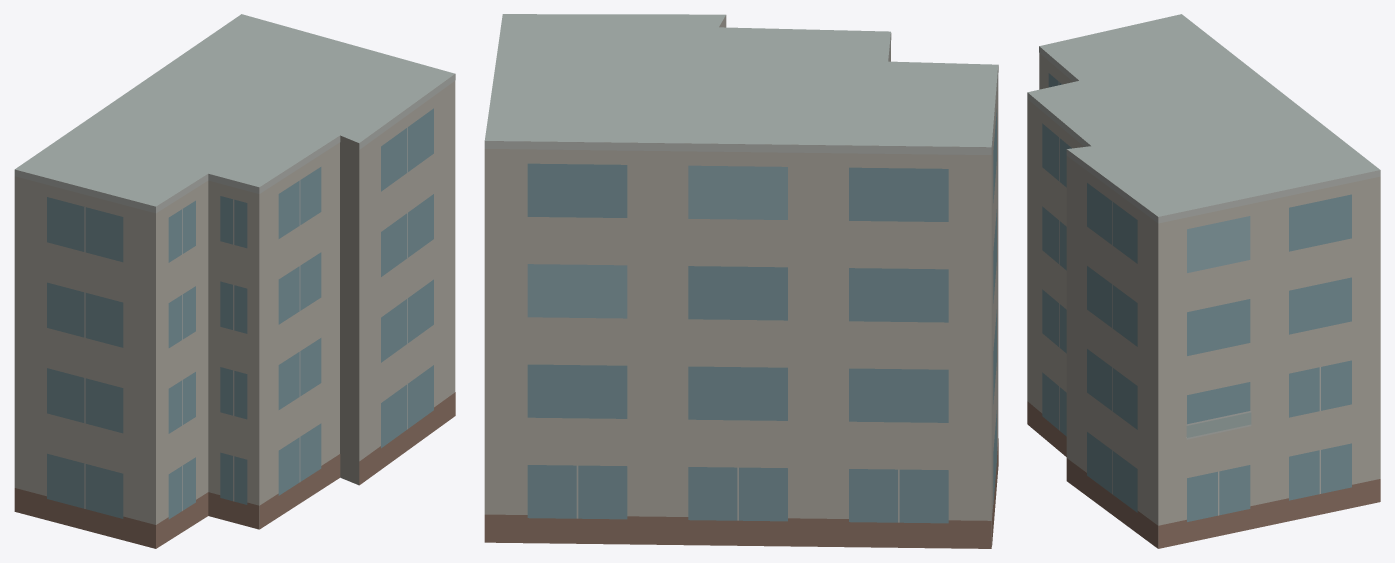
The model's file is survey-upis-32889631.glb.
3 views of the same model, side by side, from view 1: azimuth 30°, elevation 25°; view 2: azimuth 150°, elevation 25°; view 3: azimuth 270°, elevation 25° (orthographic). The views are drawn at different scales.
Visible parts, largest first — view 1: survey-upis-32889631.tmp; view 2: survey-upis-32889631.tmp; view 3: survey-upis-32889631.tmp.
Boxes of the visible parts, left/top/right/bottom form: survey-upis-32889631.tmp: left=14, top=14, right=455, bottom=548; survey-upis-32889631.tmp: left=484, top=14, right=998, bottom=548; survey-upis-32889631.tmp: left=1027, top=14, right=1380, bottom=548.
Bounding box in the file's own units: 16.13 × 12.3 × 11.87.
